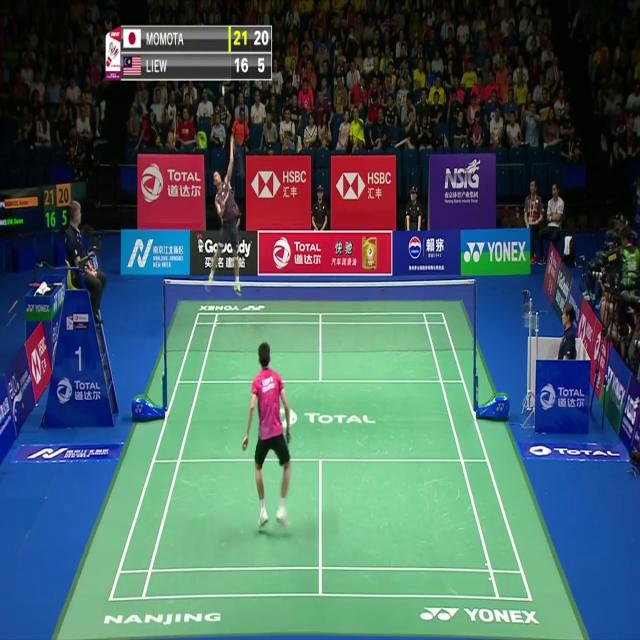Shuttlecock: (219, 85, 226, 96)
